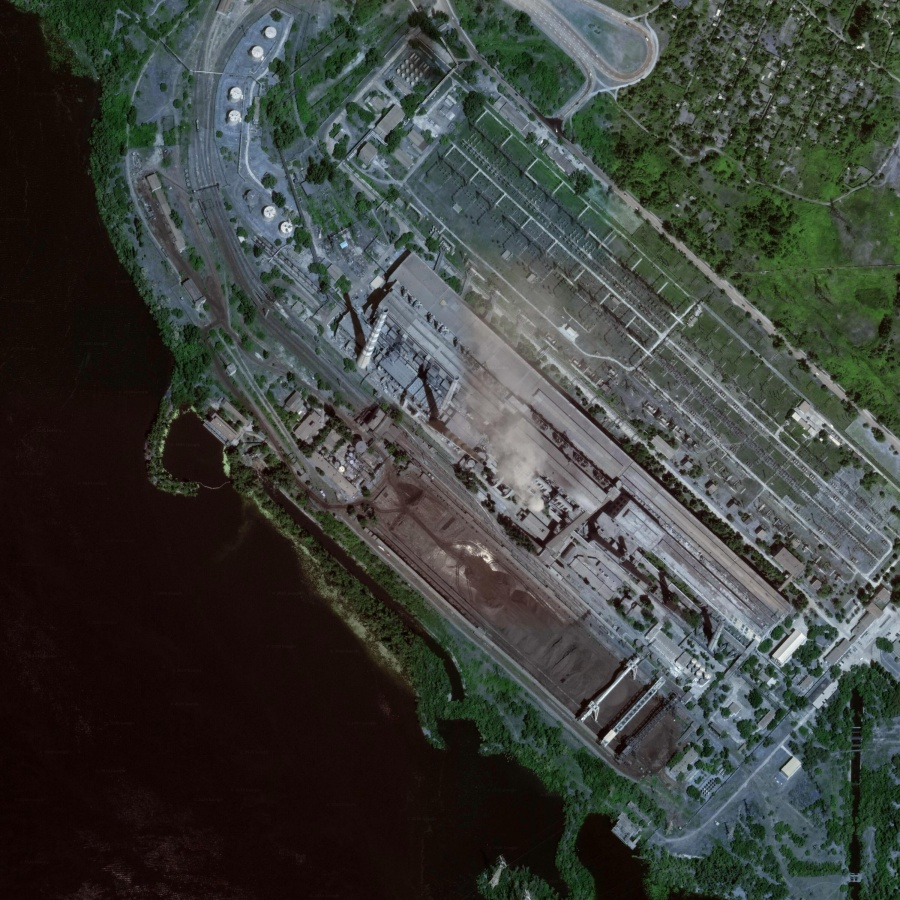PowerPlant: (313, 278, 746, 777)
